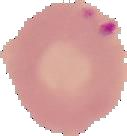parasitized: (66, 4, 127, 63)
